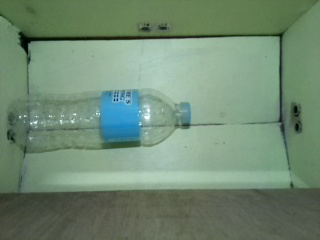bottle: (6, 87, 192, 154)
